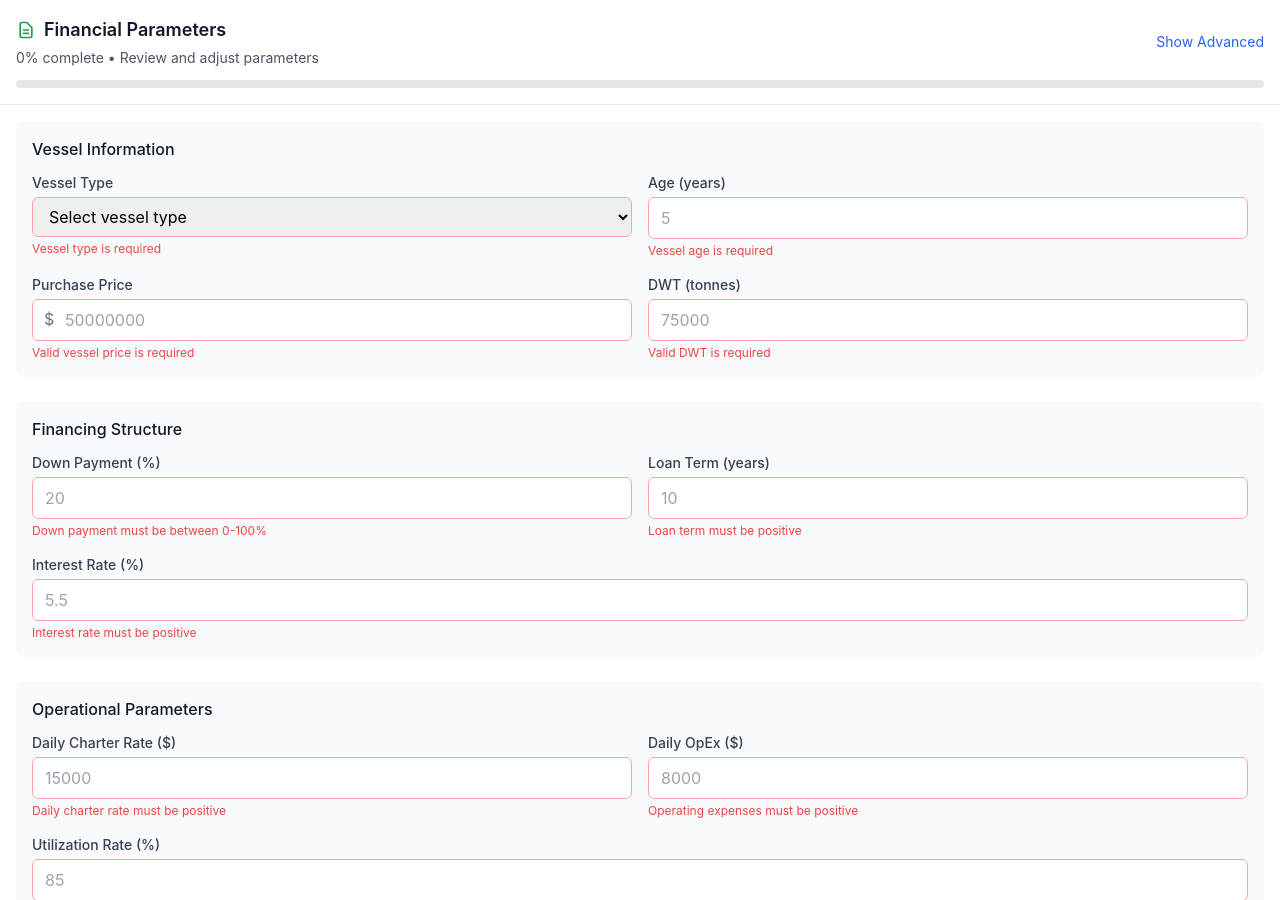
ParametersPanel › Rendering › shows advanced parameters when toggled
Check: the text "Advanced Parameters" is not shown
Click the button "Show Advanced".
click(1210, 42)  # box [1156,32,1264,52]
(page scrolled)
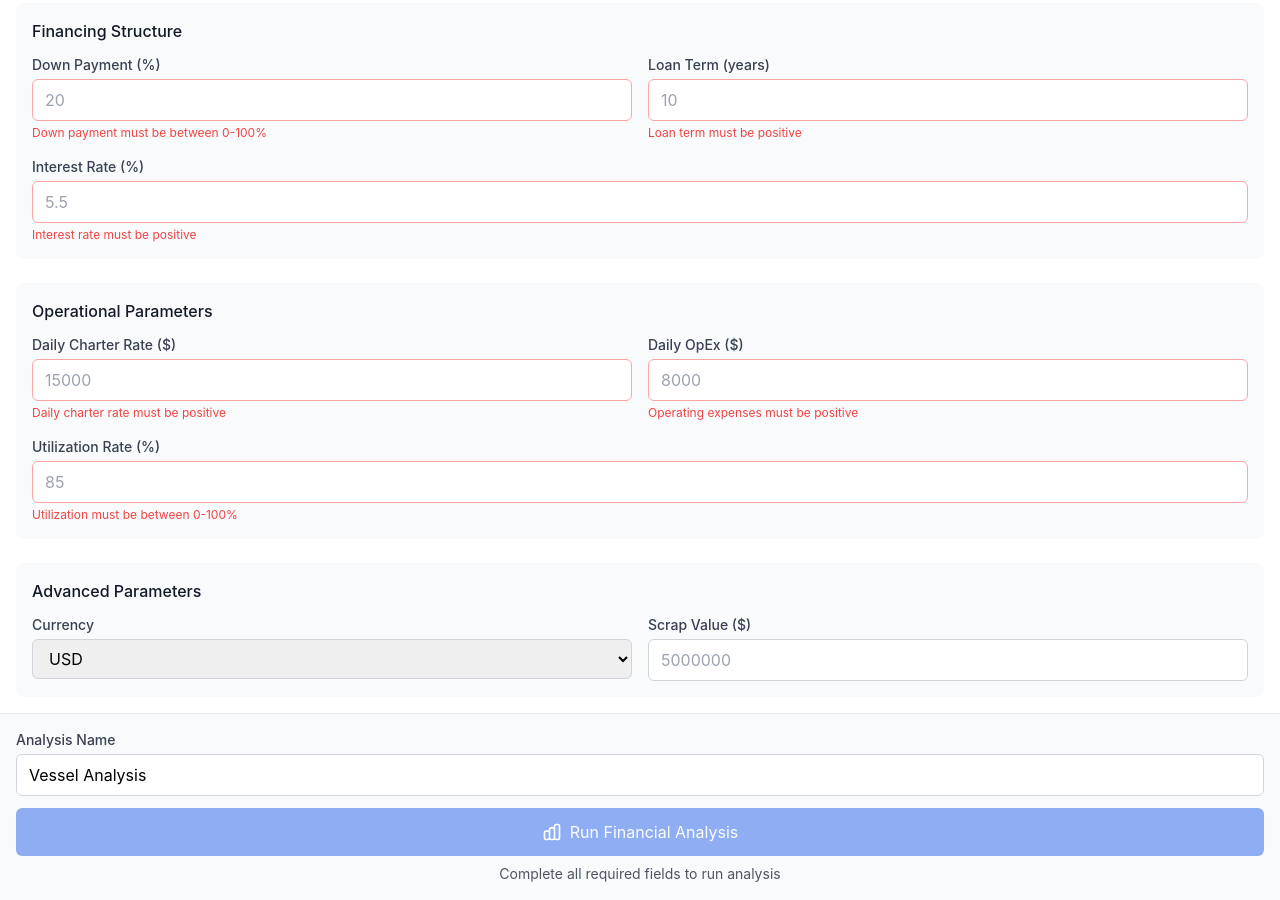
Check: the heading "Advanced Parameters" is shown, box [32,581,201,601]
Check: the text "Currency" is shown, box [32,616,94,633]
Check: the text "Scrap Value ($)" is shown, box [648,616,751,633]
